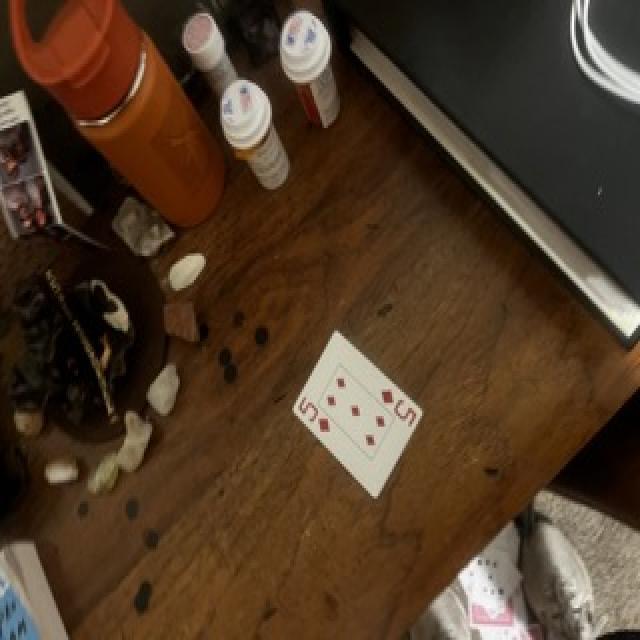5 of diamonds: (292, 332, 422, 498)
